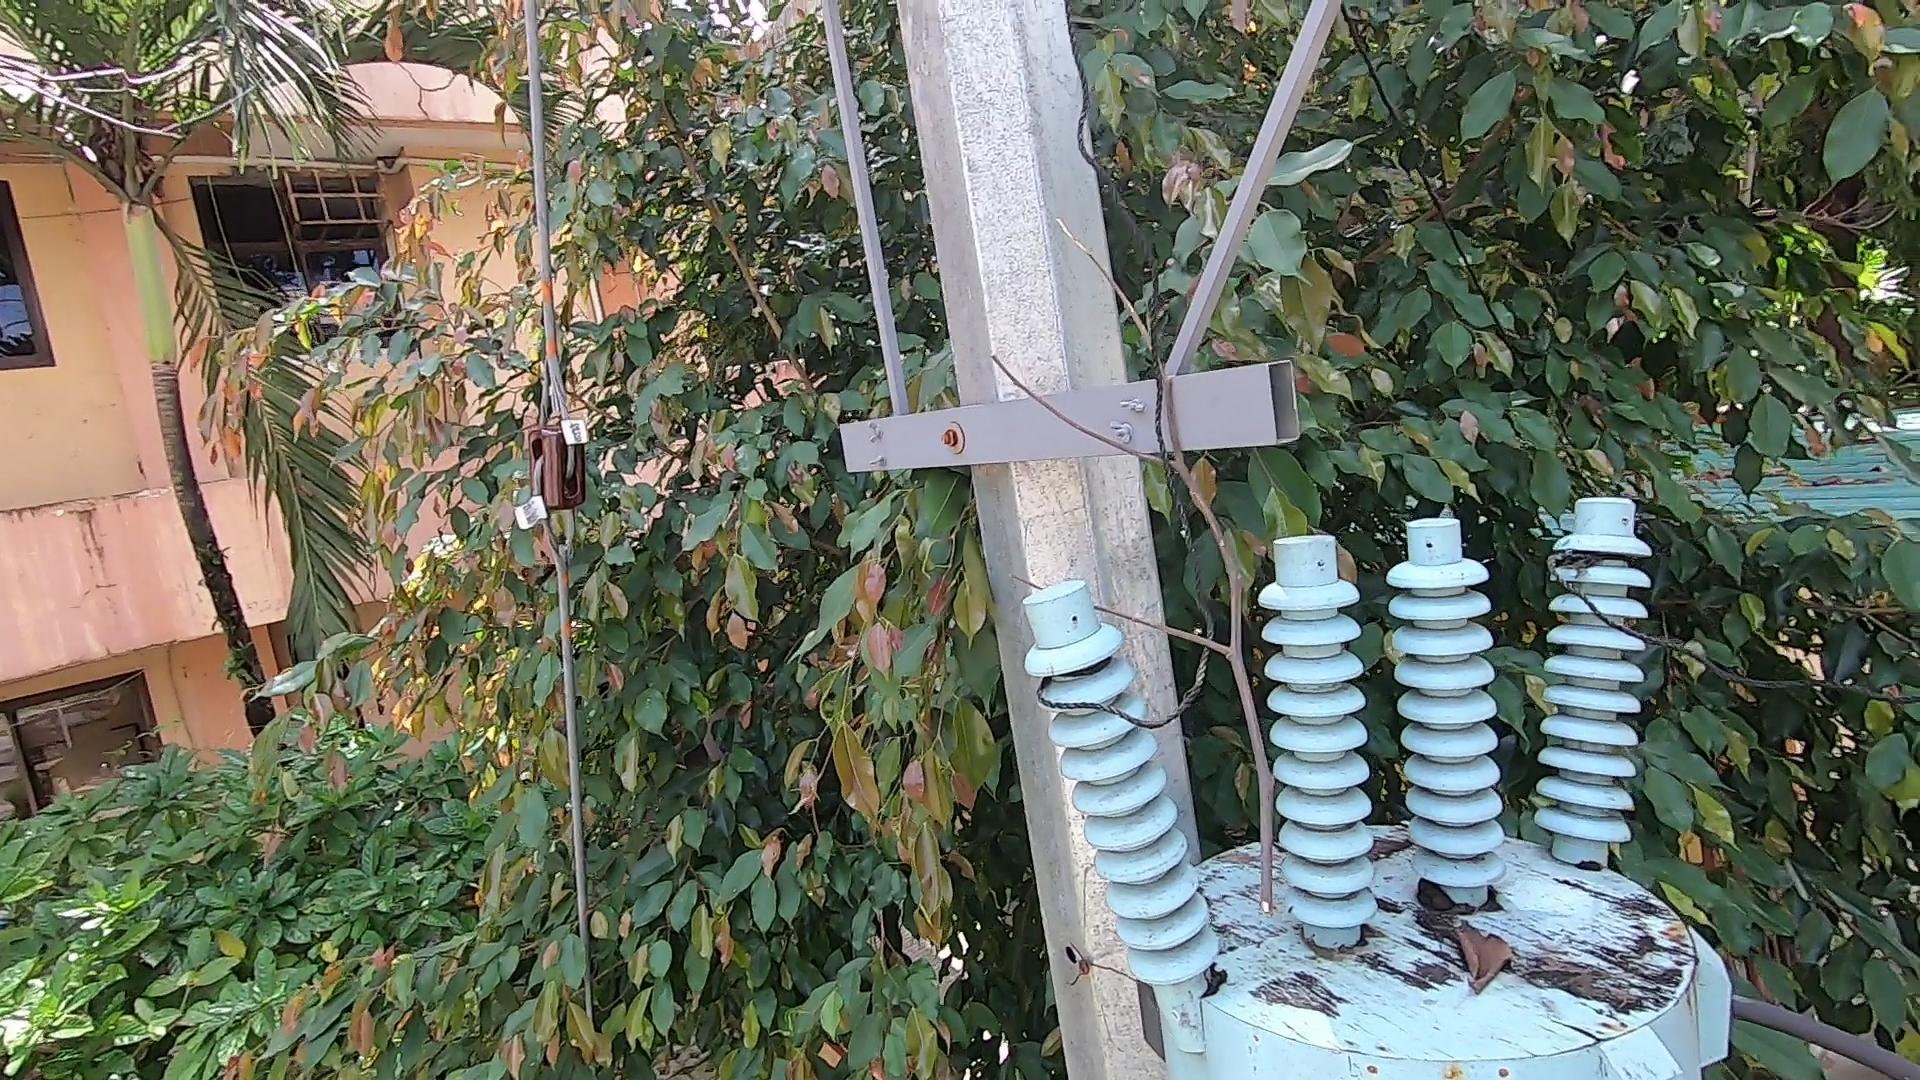leaf: (1445, 910, 1524, 996), (1406, 869, 1458, 920)
tree branch: (992, 191, 1313, 916)
